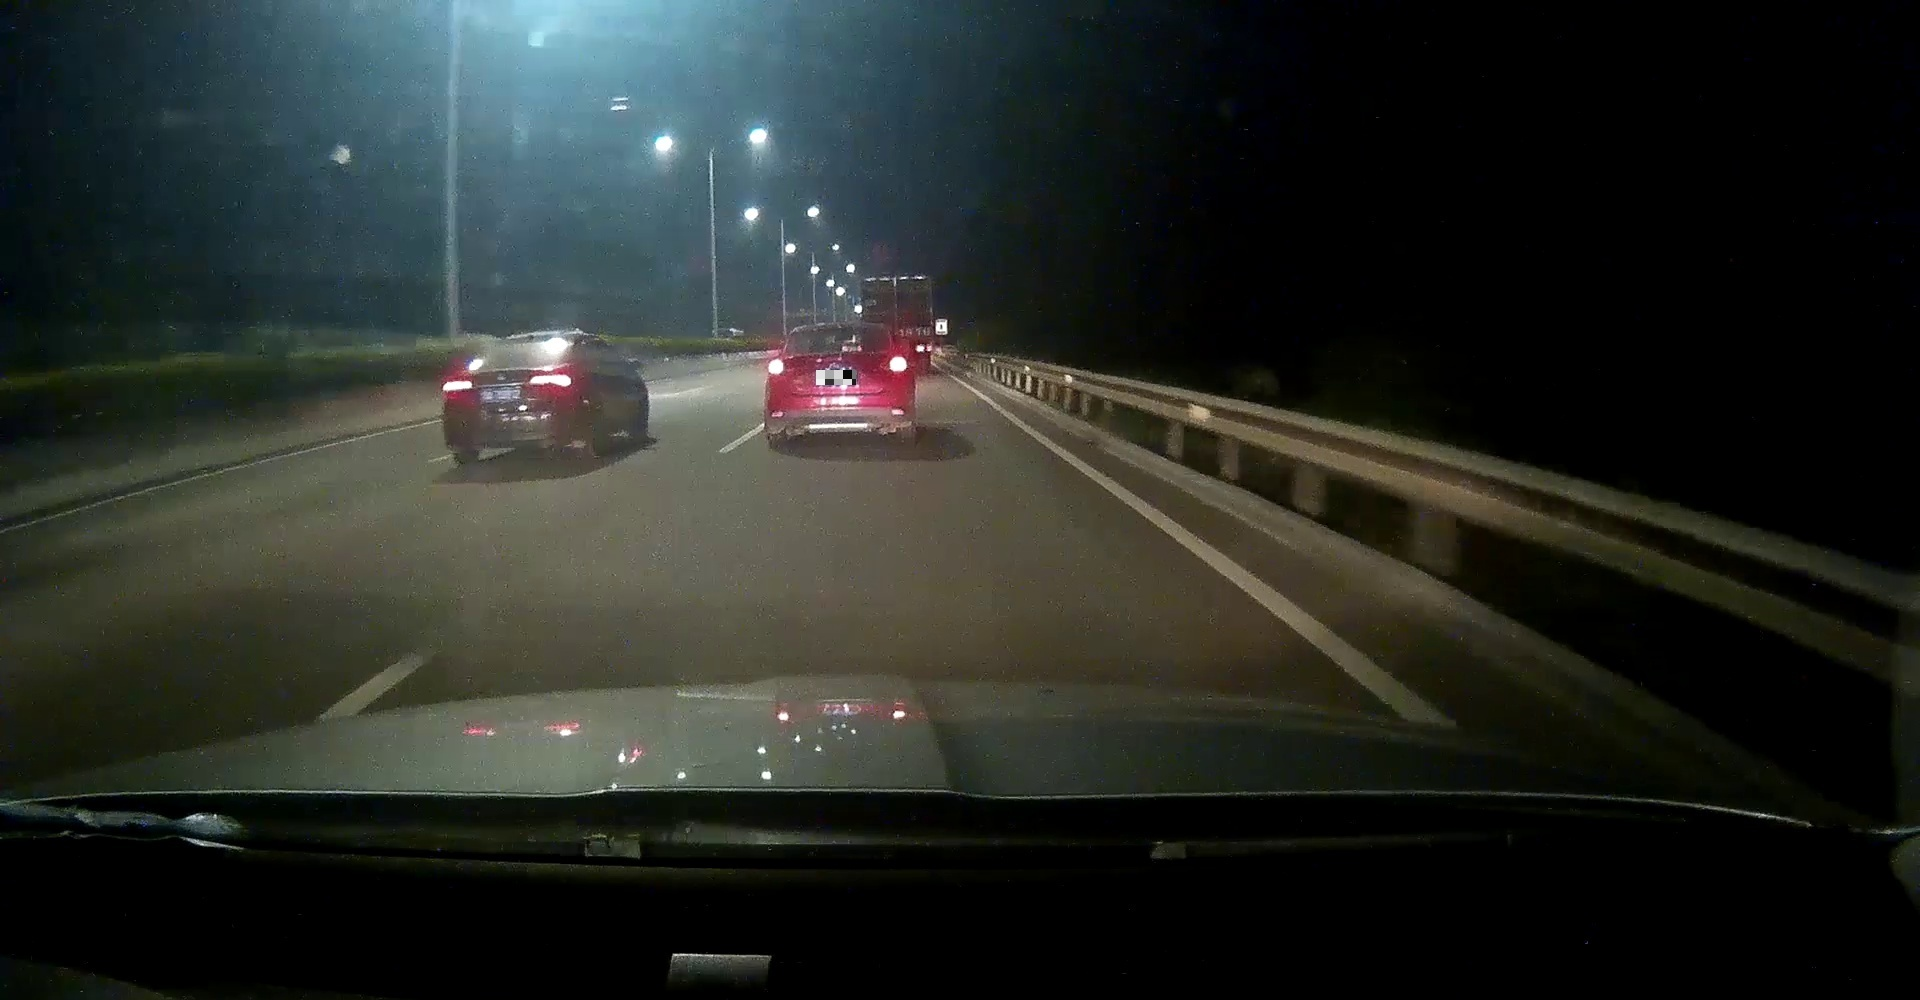L_light: (444, 378, 472, 392), (766, 359, 785, 376)
R_light: (530, 374, 571, 386), (888, 357, 908, 373)
T_light: (516, 338, 538, 345), (834, 326, 853, 331)
night-no: (442, 330, 580, 466), (764, 321, 916, 445)
plate_1: (817, 371, 856, 385)
